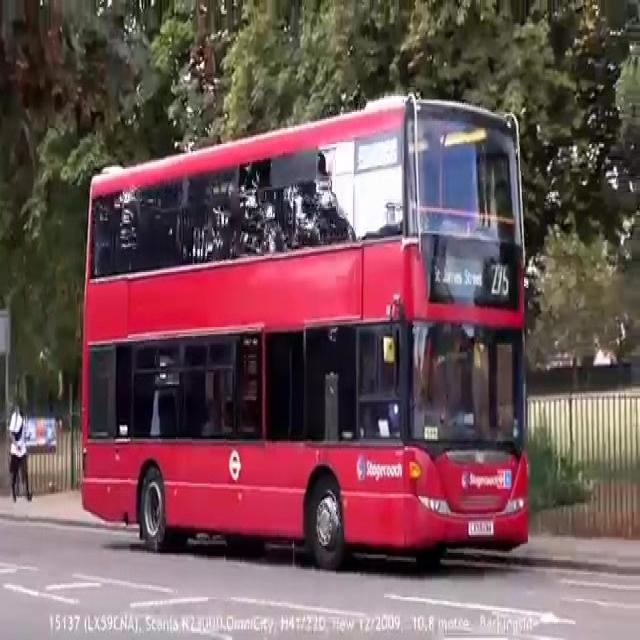Bus: (71, 97, 532, 559)
